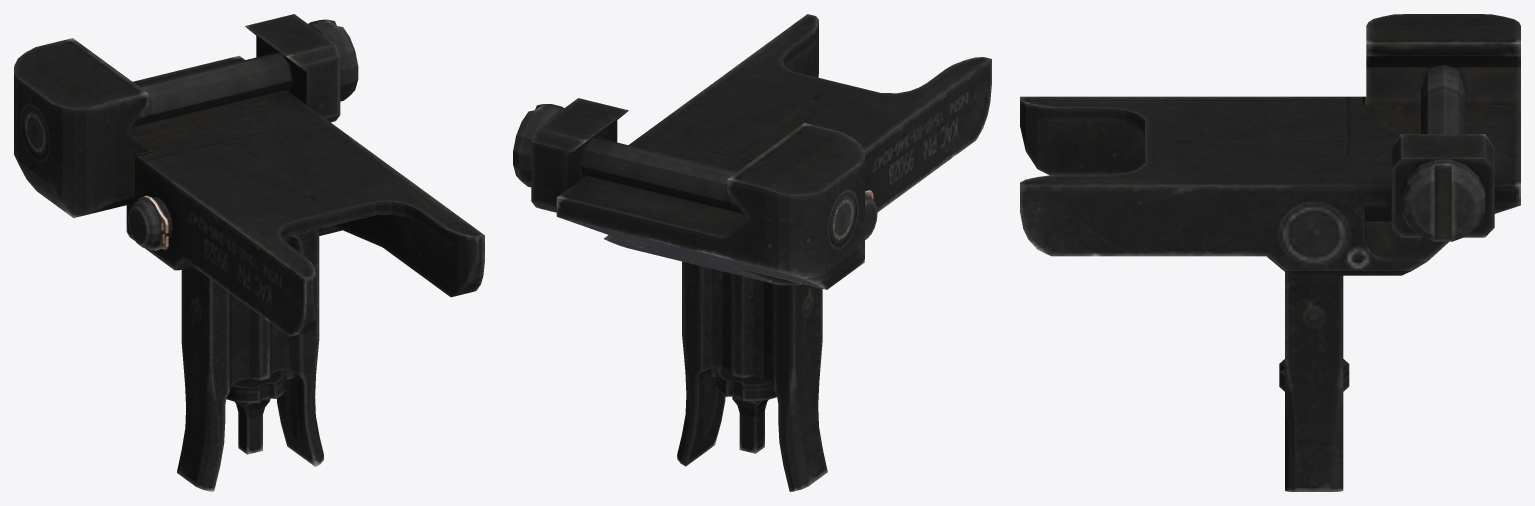
3 views of the same model, side by side, from view 1: azimuth 30°, elevation 25°; view 2: azimuth 150°, elevation 25°; view 3: azimuth 270°, elevation 25° (orthographic). The views are drawn at different scales.
Parts seen in each view (by area): view 1: TW_5c17804b2e2216152006c02f_PZ_Import; view 2: TW_5c17804b2e2216152006c02f_PZ_Import; view 3: TW_5c17804b2e2216152006c02f_PZ_Import.
Part boxes in pixels (x1,y1,x2,y2): TW_5c17804b2e2216152006c02f_PZ_Import: (14, 14, 484, 491); TW_5c17804b2e2216152006c02f_PZ_Import: (513, 14, 991, 491); TW_5c17804b2e2216152006c02f_PZ_Import: (1020, 14, 1520, 491).
Bounding box in the file's own units: 0.0199 × 0.0276 × 0.0233.
1 material, 1 textured.
